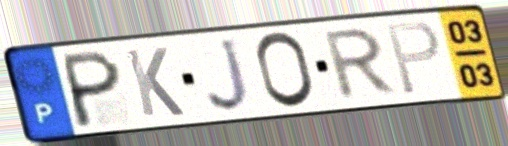J: (205, 35, 255, 115)
K: (122, 45, 188, 119)
O: (253, 30, 318, 111)
P: (61, 47, 124, 130), (384, 18, 443, 98)
R: (322, 24, 401, 103)
